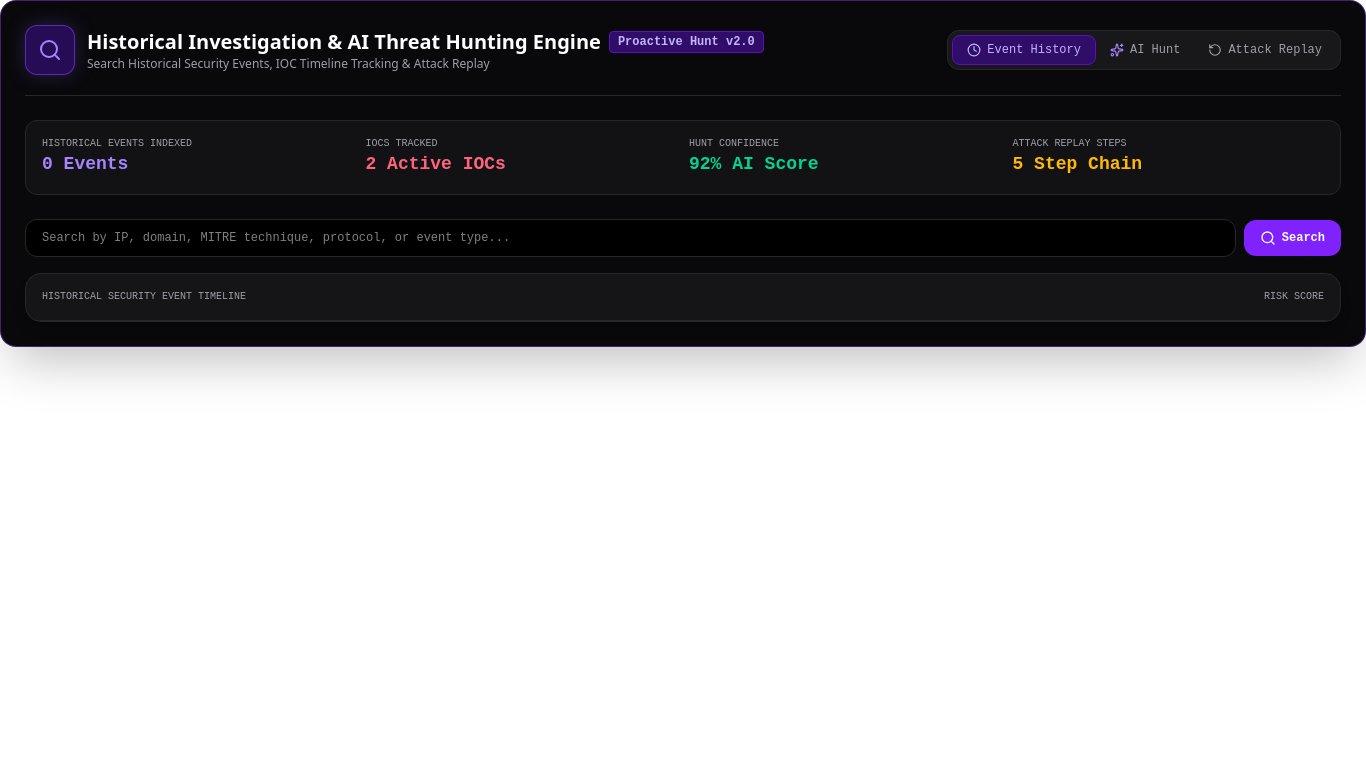
Test: ThreatHuntingWorkspace Component › switches to Attack Replay tab
Check: the heading "Historical Investigation & AI Threat Hunting Engine" is shown, box [87,28,601,55]
Click the button "Attack Replay" at coordinates (1265, 50), box [1194,36,1336,64]
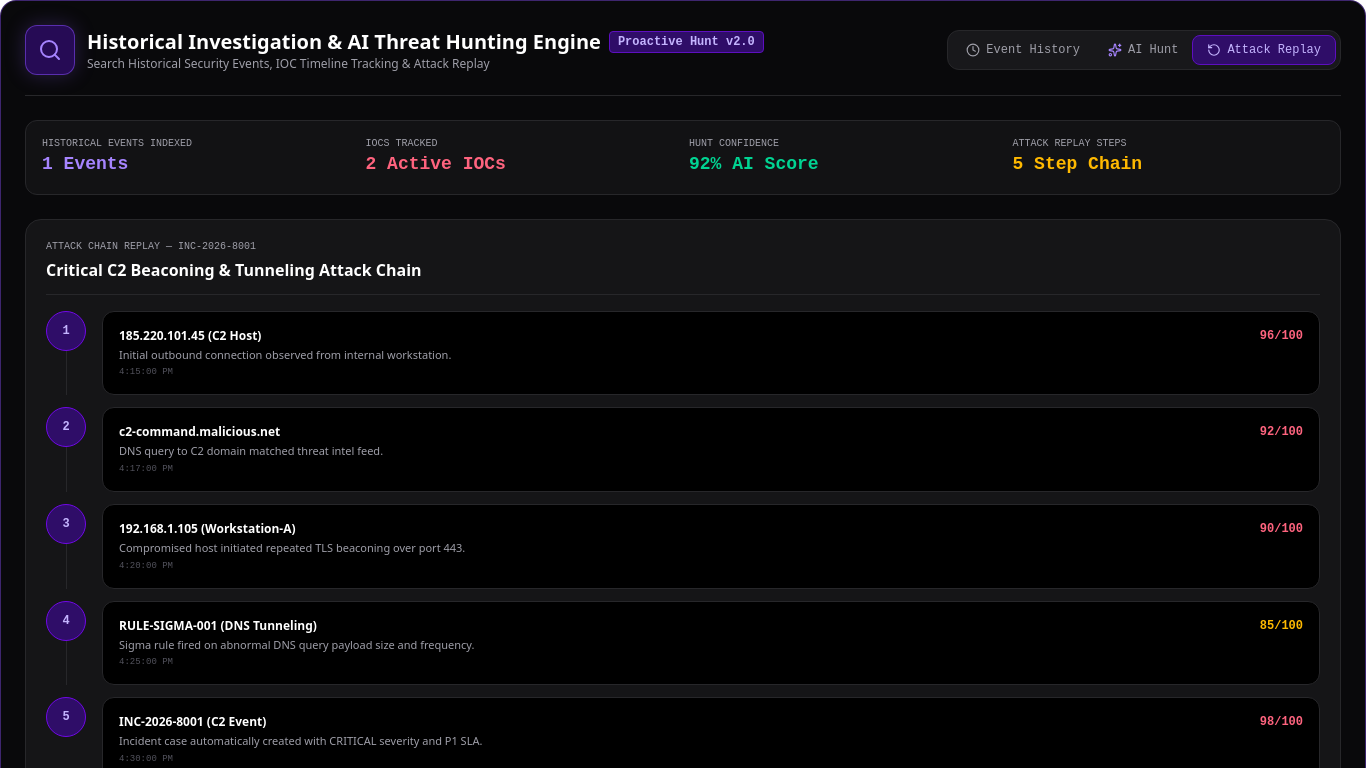
Check: the text "Attack Chain Replay — INC-2026-8001" is shown, box [46,241,256,252]
